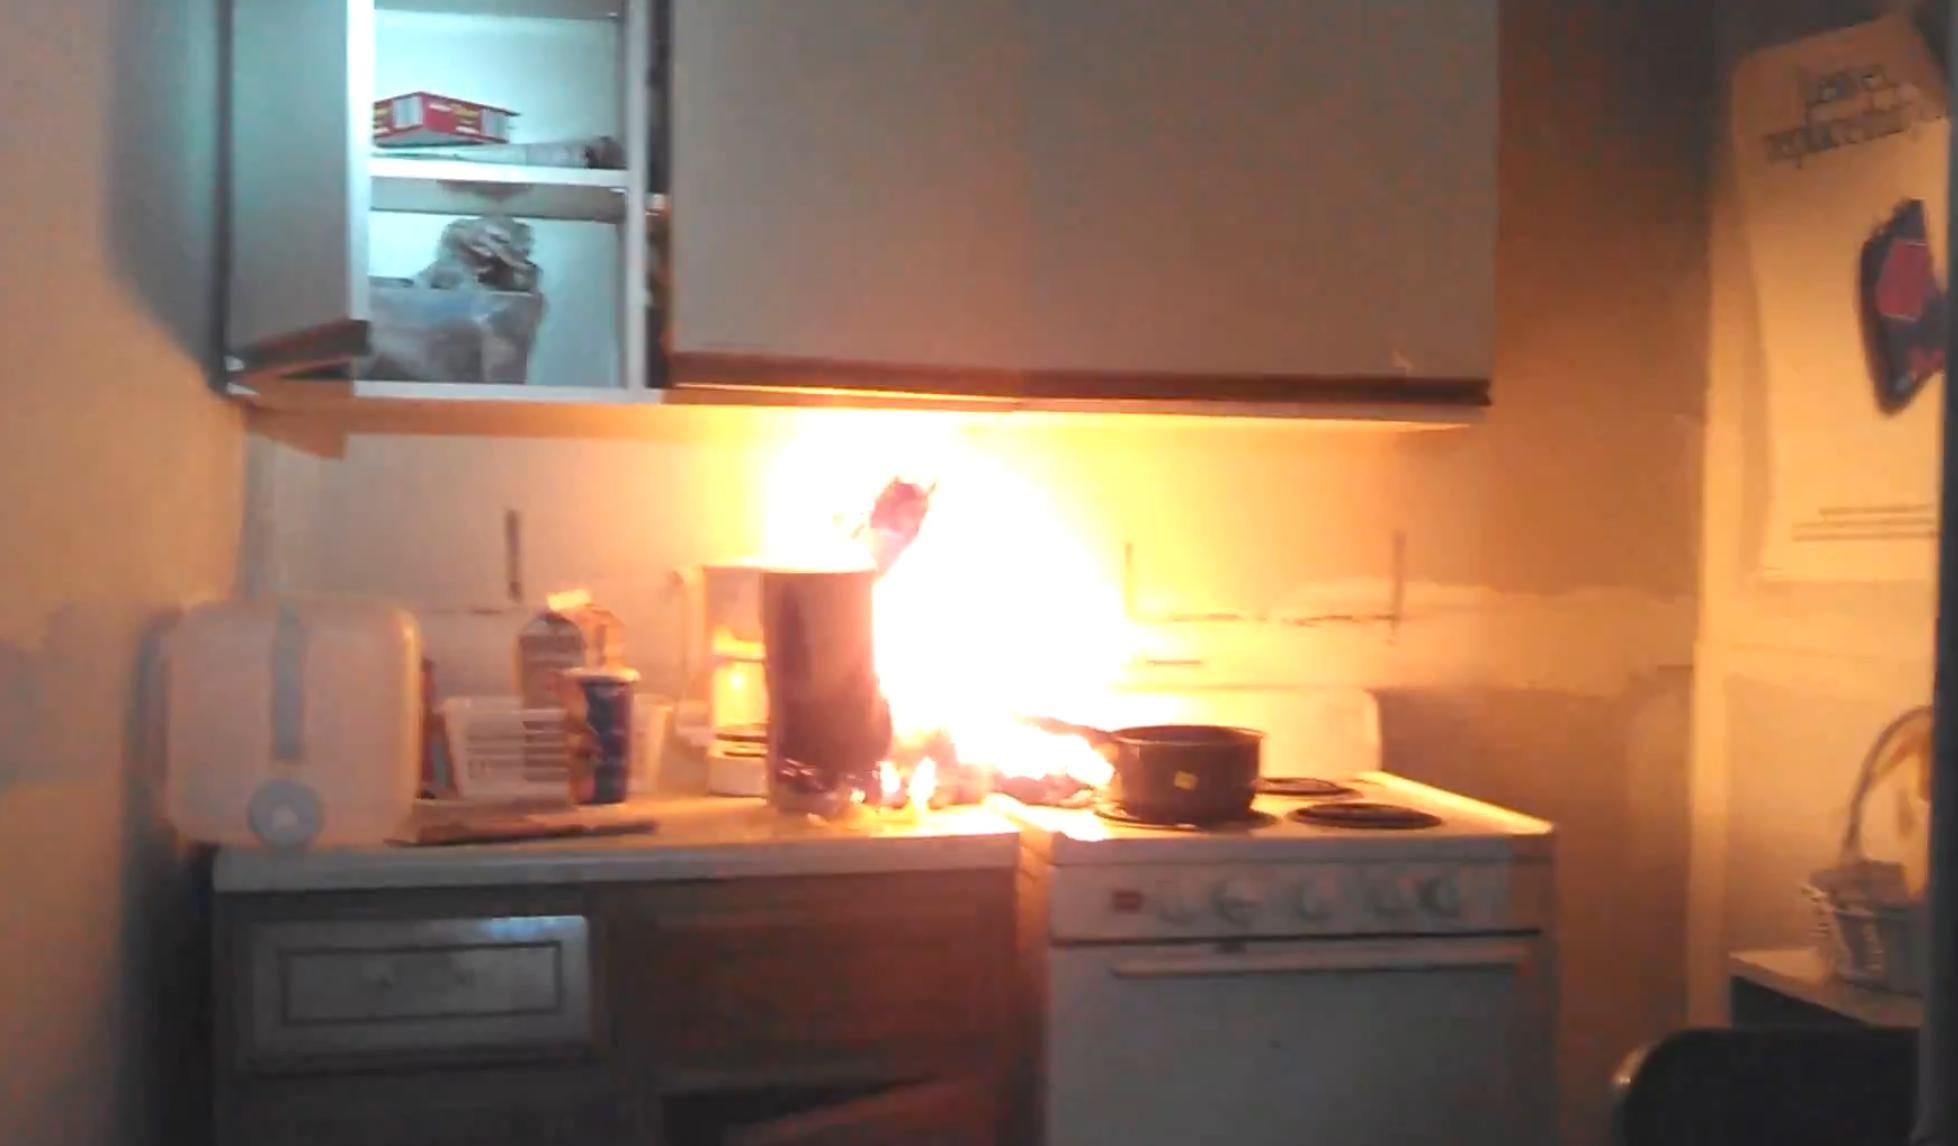fire: (768, 407, 1169, 832)
